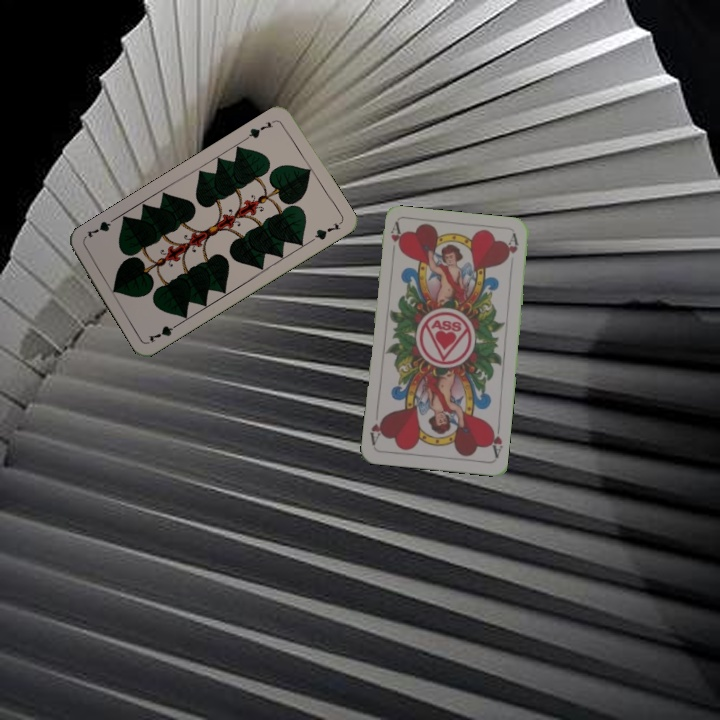G7: (144, 319, 182, 345), (242, 116, 279, 142)
HA: (485, 420, 505, 460), (387, 220, 405, 260)
